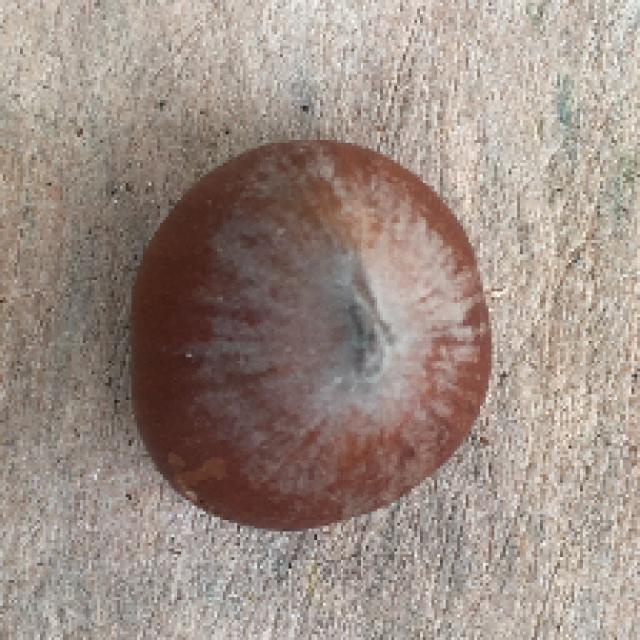QualityHazelnut: (134, 136, 495, 533)
